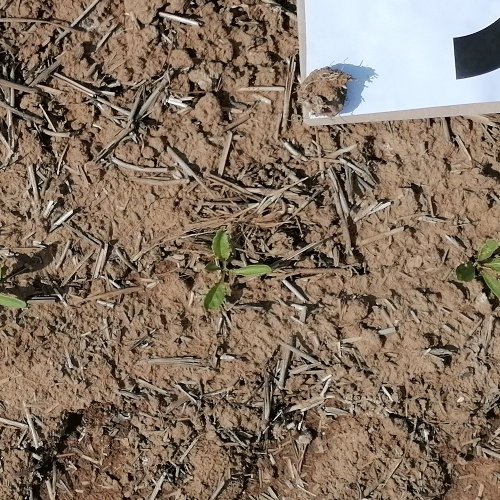beet: (204, 231, 271, 311), (456, 240, 500, 301), (0, 294, 28, 308)
